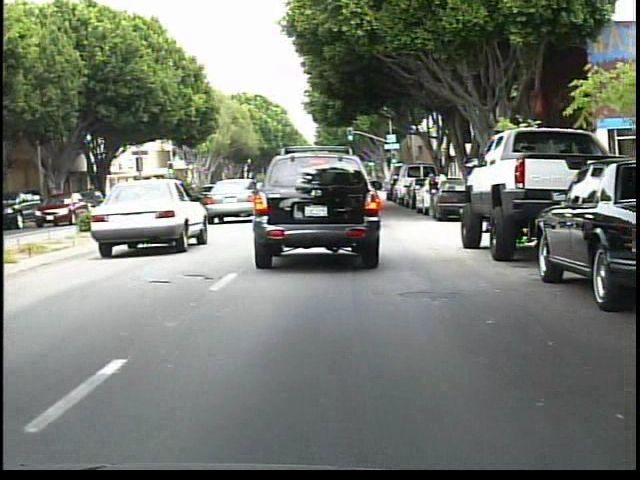person: (424, 174, 441, 222), (432, 166, 449, 213)
